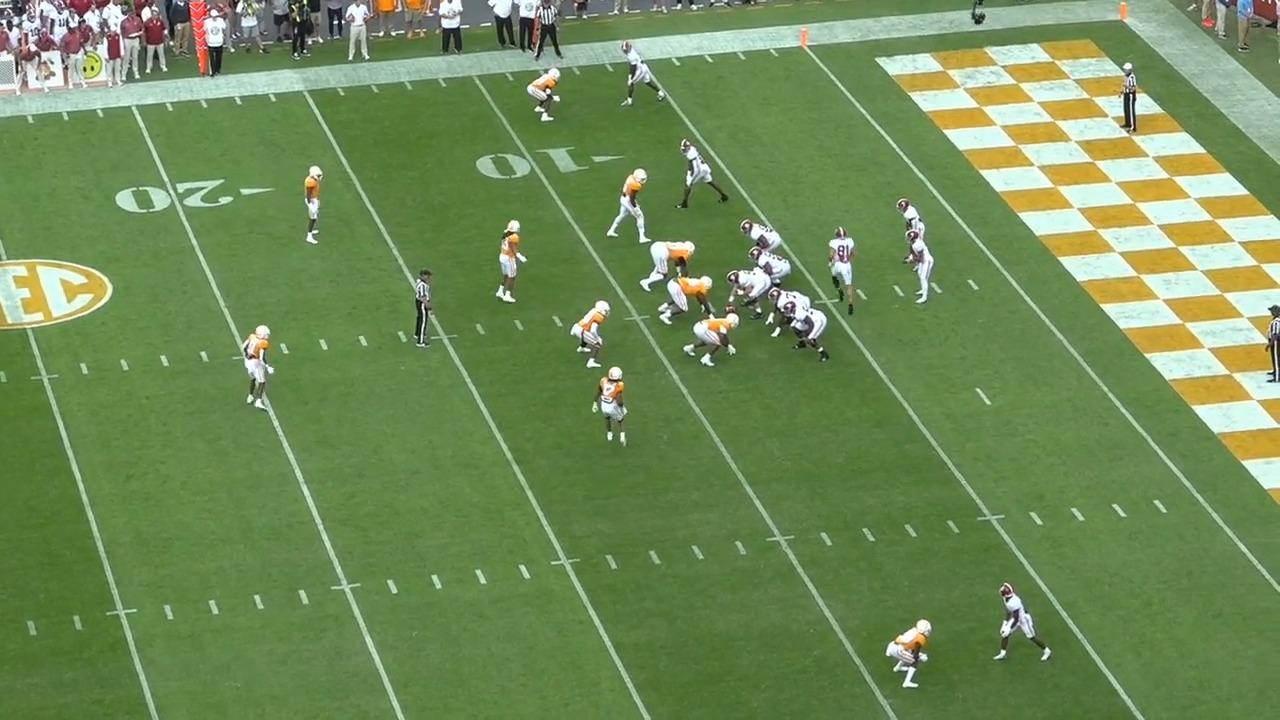defense: (881, 614, 931, 692), (611, 162, 658, 242), (686, 316, 746, 373), (640, 240, 701, 296), (496, 217, 531, 312), (595, 365, 633, 452), (653, 275, 713, 329), (241, 322, 276, 412), (569, 296, 610, 369), (293, 158, 323, 249), (528, 66, 563, 123)
oline: (788, 304, 835, 367), (718, 270, 769, 323), (764, 290, 810, 344), (751, 246, 795, 295), (738, 220, 782, 260)
qb: (901, 229, 935, 312)
ref: (410, 269, 440, 354), (535, 0, 568, 64), (1115, 58, 1139, 133), (1262, 299, 1279, 385), (1267, 308, 1280, 387)
skill: (989, 580, 1056, 666), (677, 137, 732, 212), (617, 40, 669, 110), (822, 221, 856, 313), (892, 194, 921, 270)
